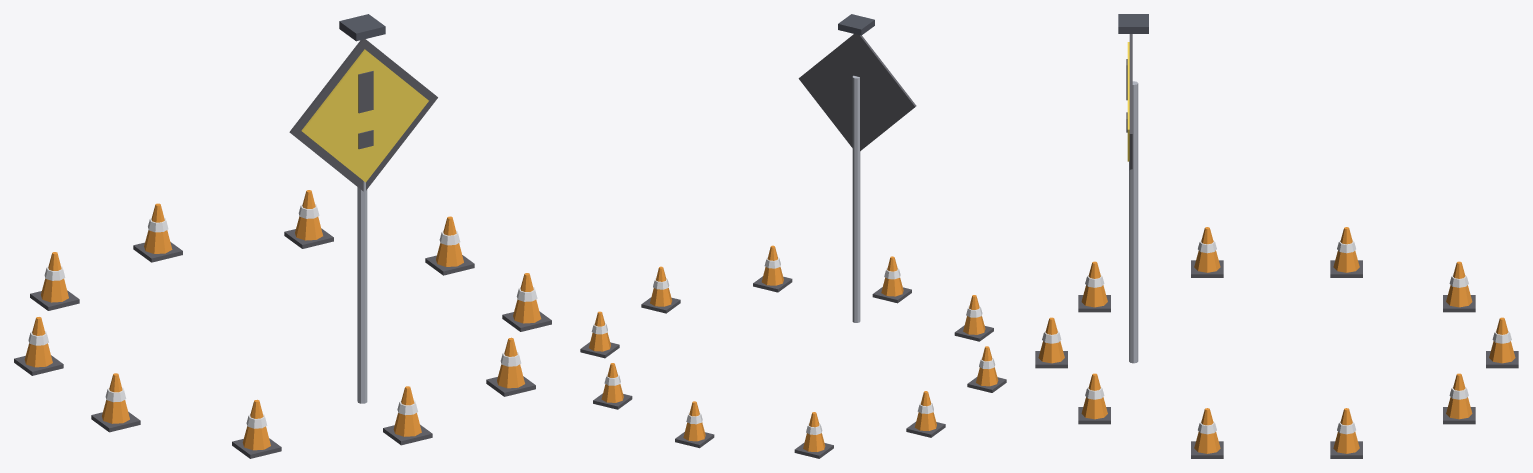
File: Race_hazard.fbx
3 views of the same model, side by side, from view 1: azimuth 30°, elevation 25°; view 2: azimuth 150°, elevation 25°; view 3: azimuth 270°, elevation 25° (orthographic). The views are drawn at different scales.
Visible parts, largest first — view 1: Race_hazard; view 2: Race_hazard; view 3: Race_hazard.
Part boxes in pixels (left/top/right/bottom): Race_hazard: left=14, top=14, right=551, bottom=458; Race_hazard: left=580, top=14, right=1006, bottom=458; Race_hazard: left=1035, top=14, right=1518, bottom=458.
Bounding box in the file's own units: 9.01 × 7.35 × 9.44.
